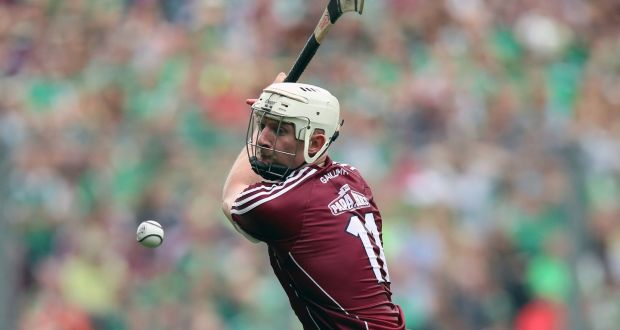hurley: (279, 1, 367, 82)
